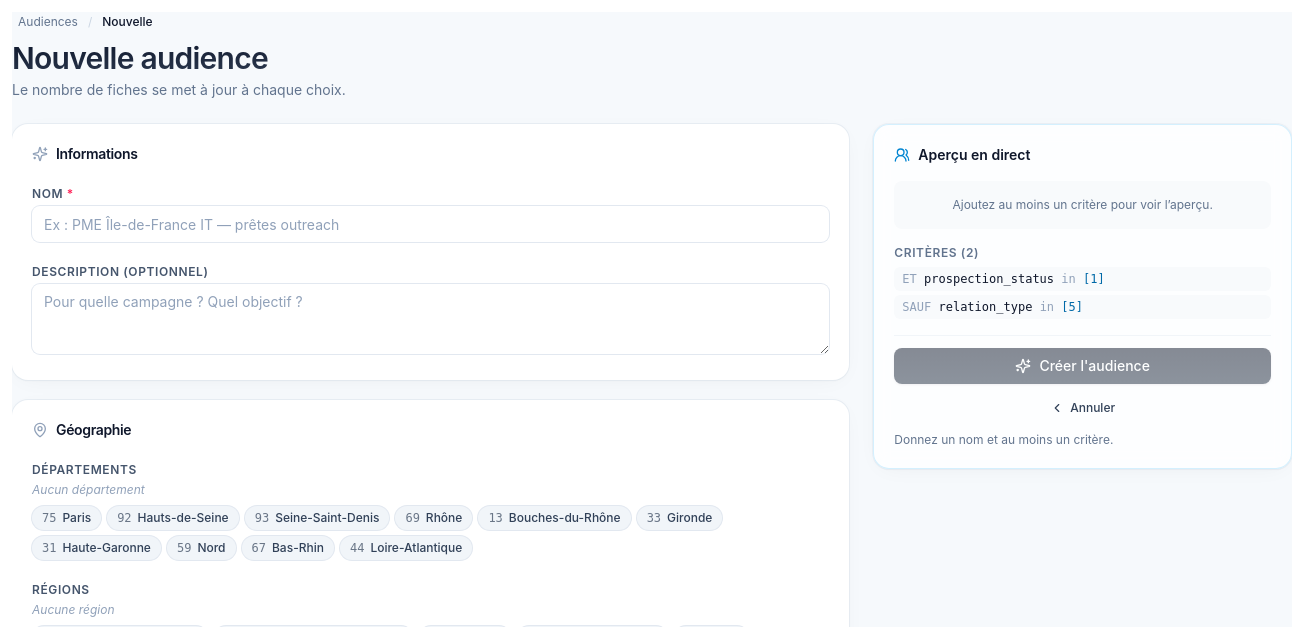
Test: AudienceBuilderPage — parcours › re-cliquer un département le RETIRE — la puce est une bascule, pas un ajout
Click the button "75 Paris" at (67, 518), box [32,506,101,530]
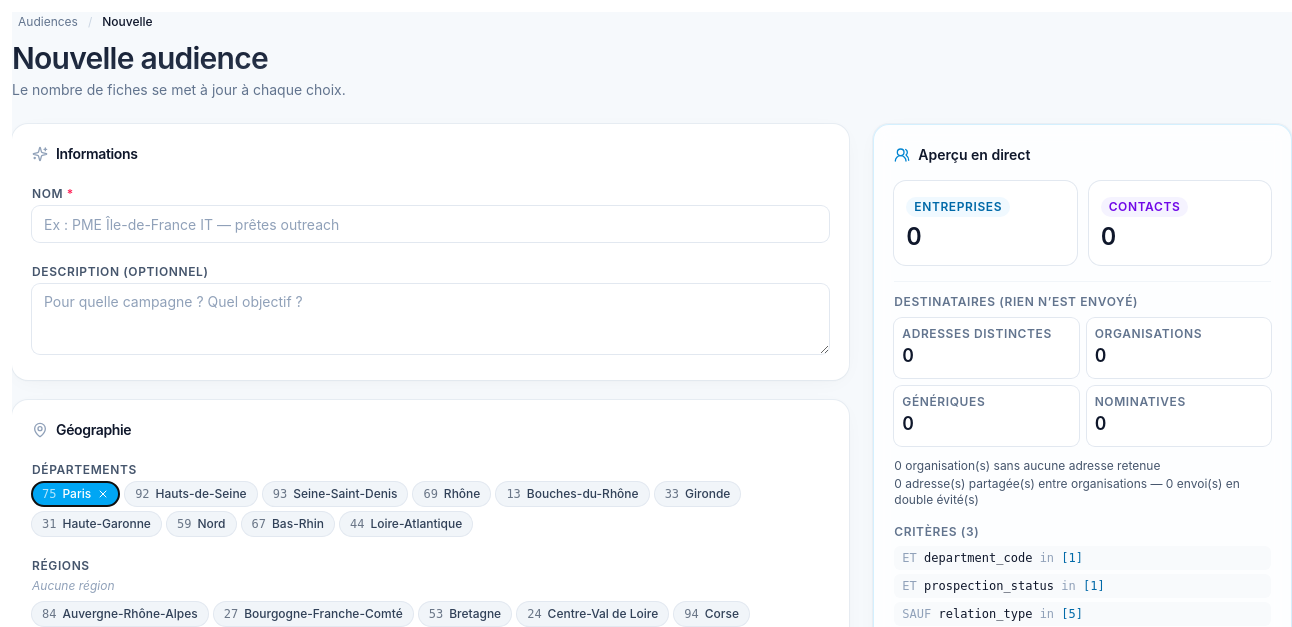
Check: the text "Critères (3)" is shown, box [894,524,979,539]
Click the button "75 Paris" at (76, 494), box [32,482,119,506]
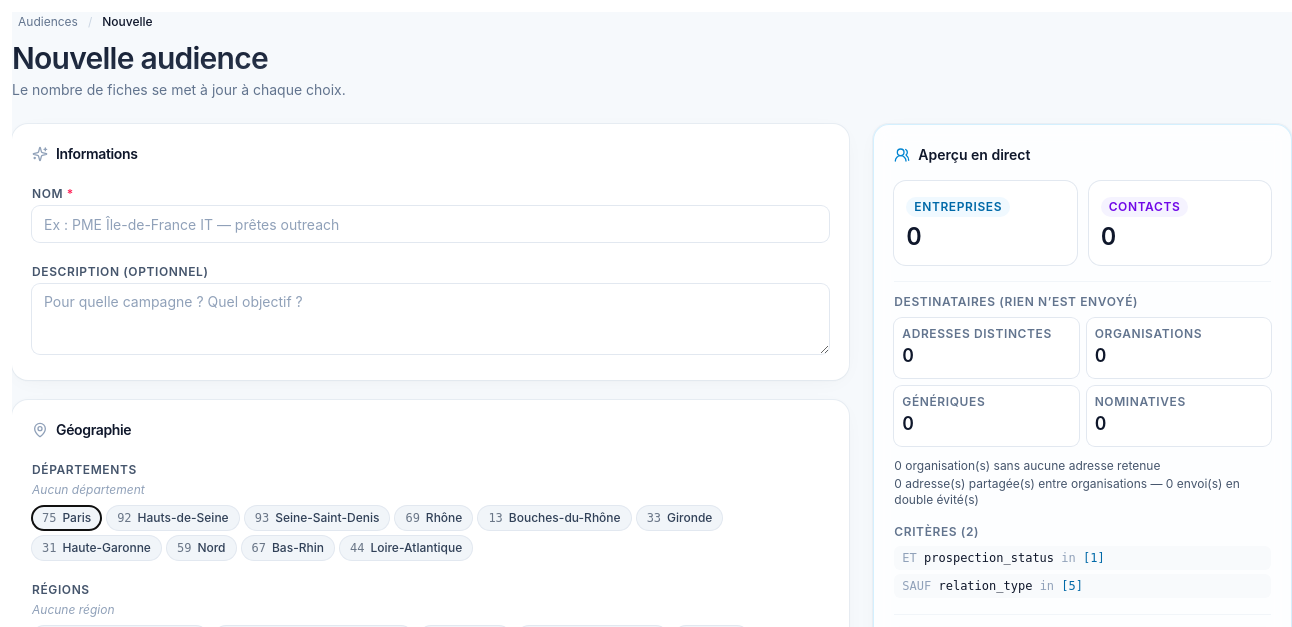
Check: the text "Critères (2)" is shown, box [894,524,979,539]
